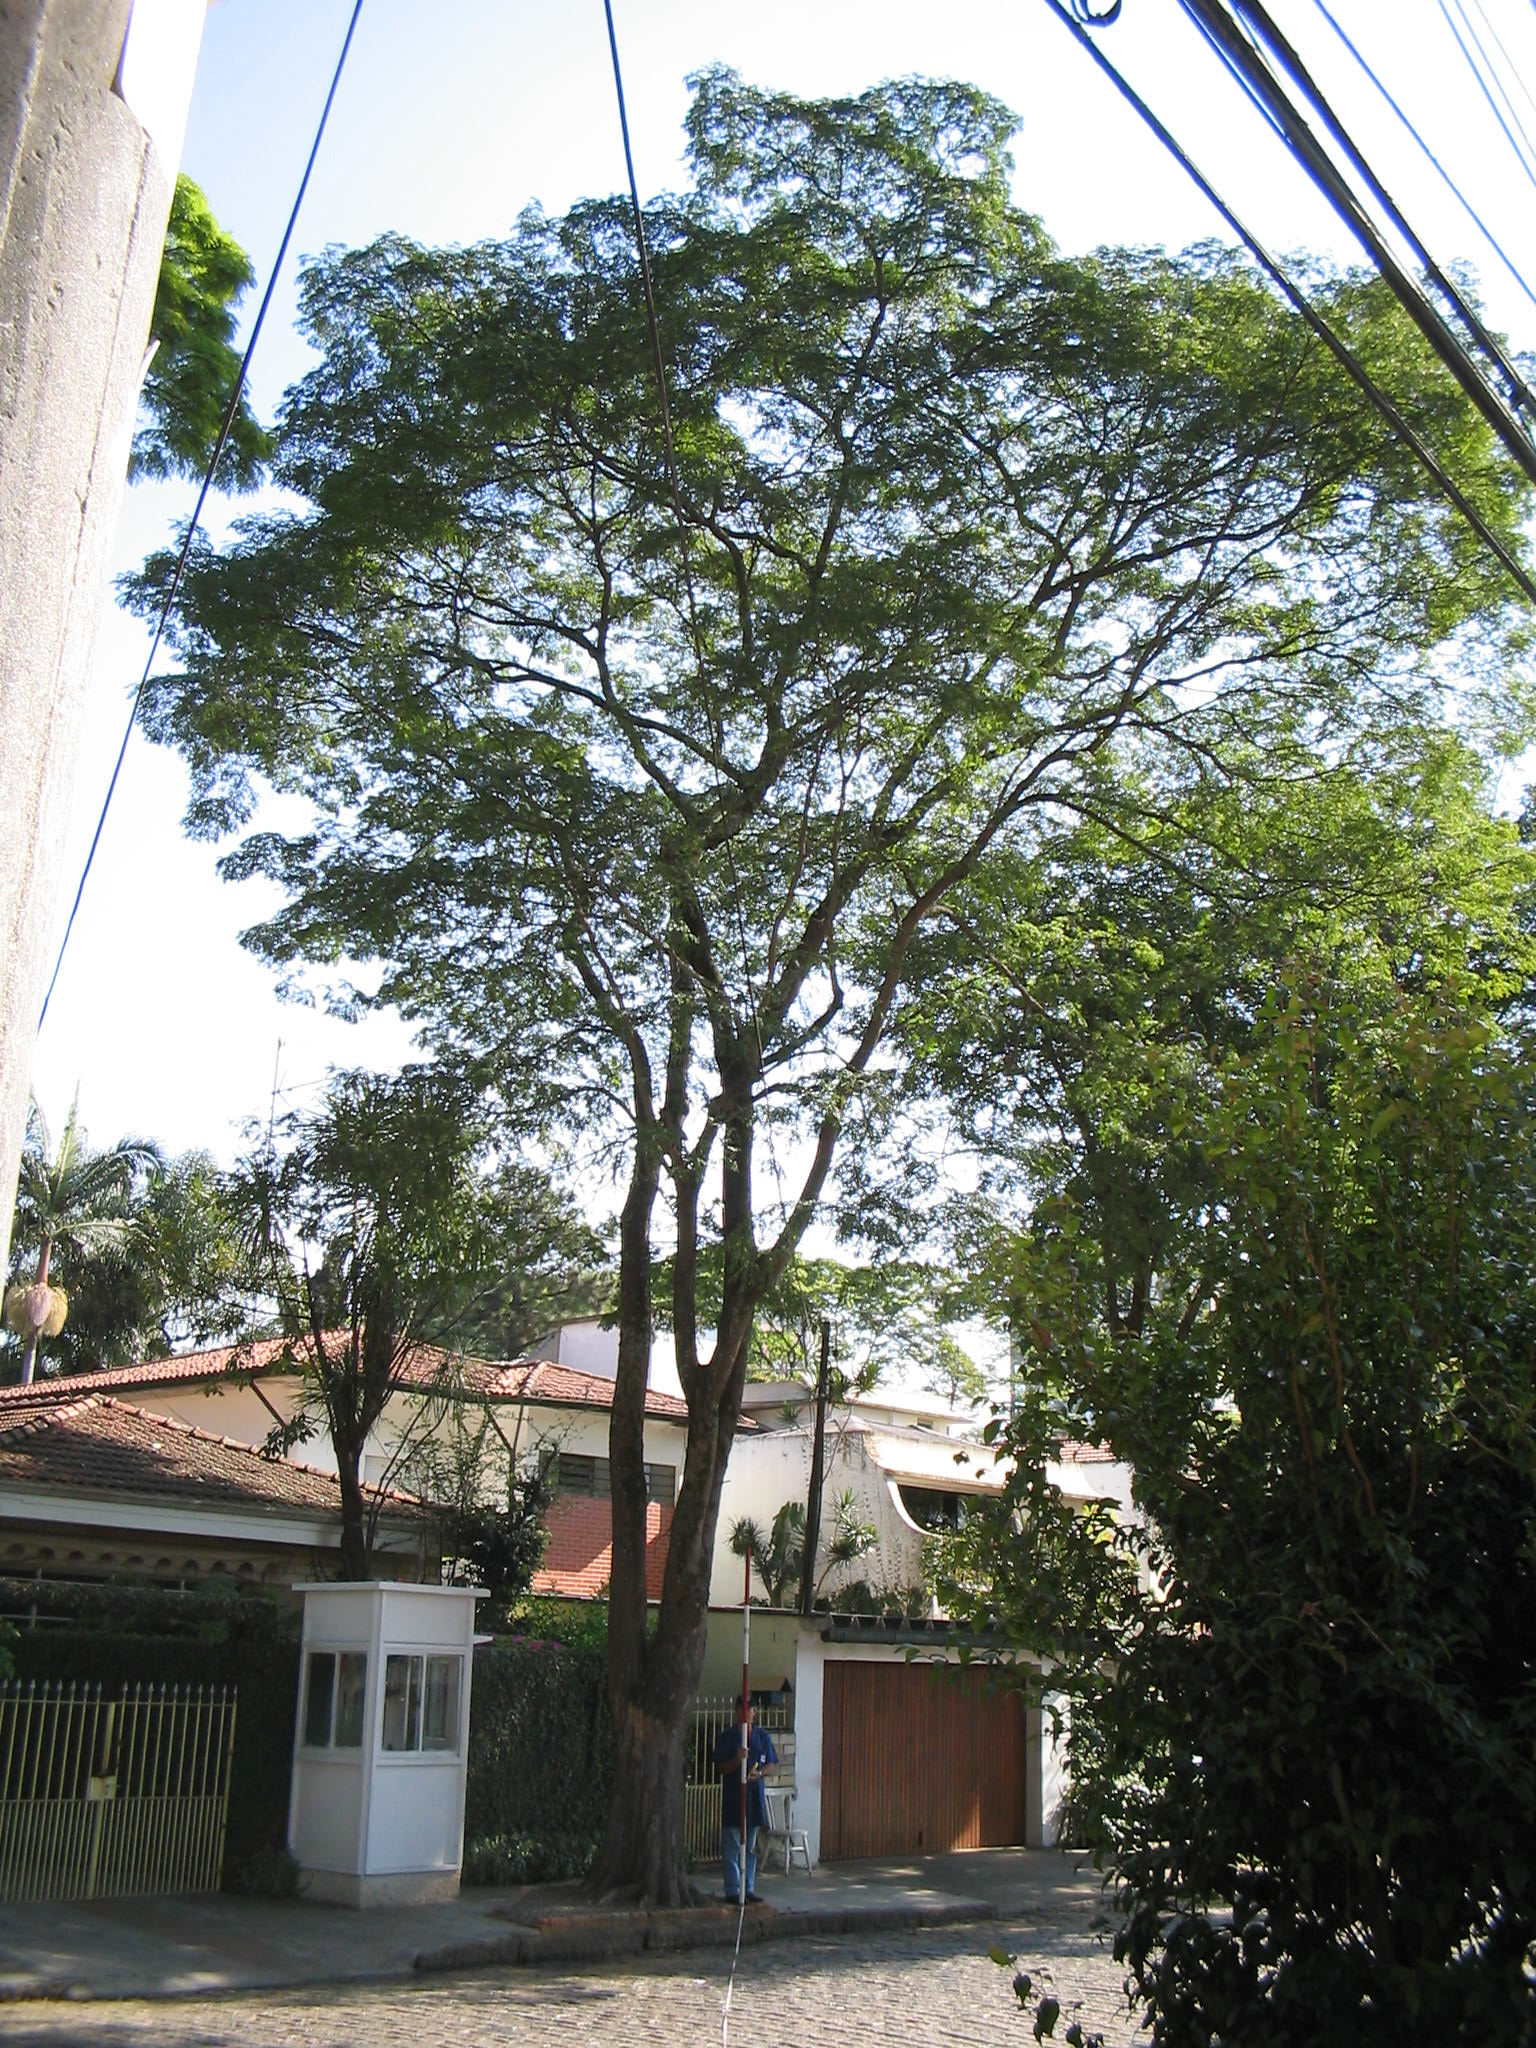crown: (144, 63, 1517, 1229)
stem: (561, 1650, 716, 1904), (310, 1417, 395, 1584)
stick: (728, 1545, 766, 1906)
tree: (136, 58, 1525, 1908), (189, 1071, 560, 1584)
